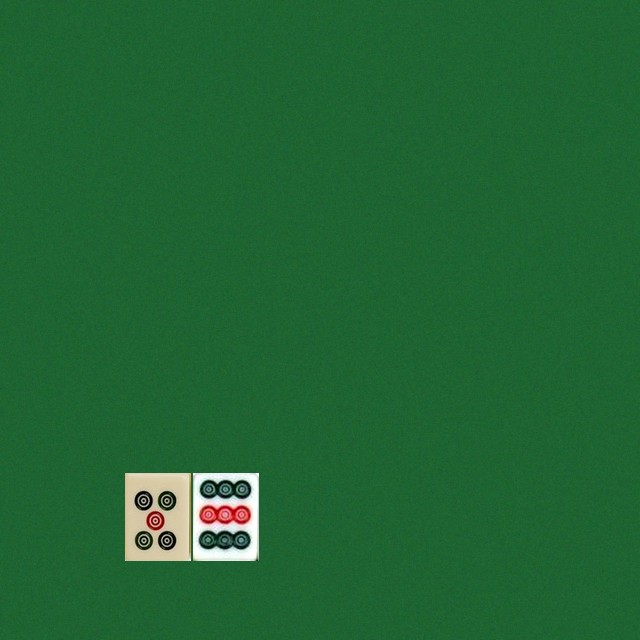tile: (124, 472, 190, 560), (192, 472, 258, 560)
